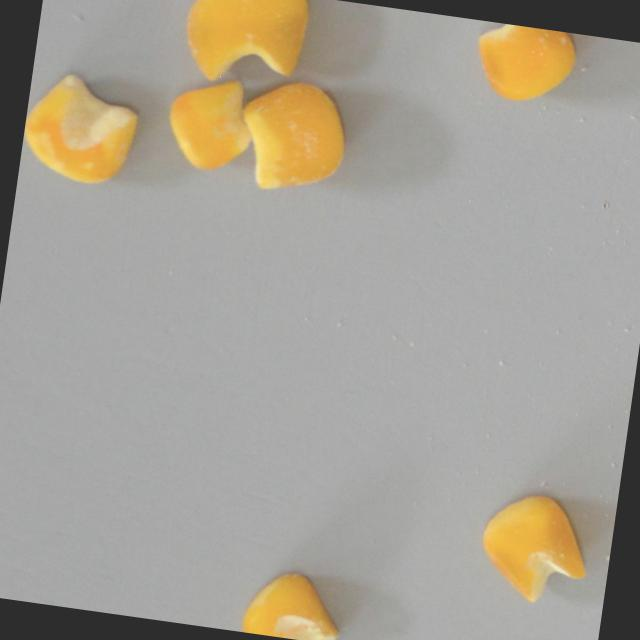dañado: (17, 62, 149, 194), (469, 483, 599, 612), (175, 0, 313, 97), (463, 19, 583, 115), (238, 562, 349, 640)
no_desgerminado: (155, 69, 263, 179)
pelicula: (230, 73, 356, 203)
